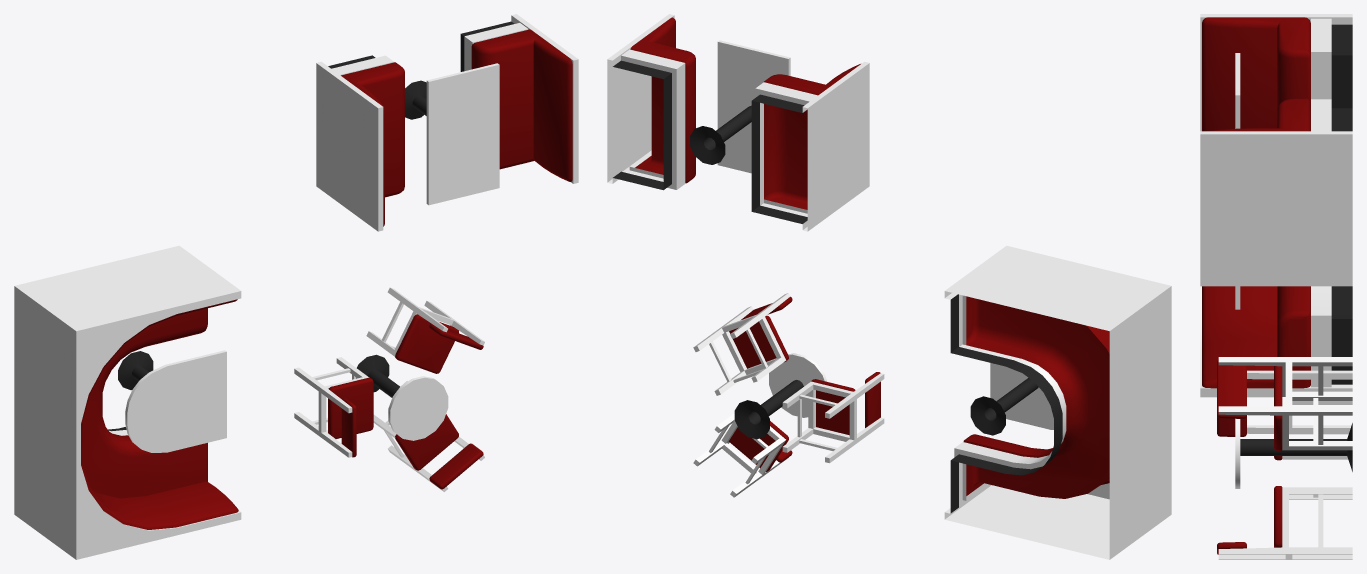
3 views of the same model, side by side, from view 1: azimuth 30°, elevation 25°; view 2: azimuth 150°, elevation 25°; view 3: azimuth 270°, elevation 25° (orthographic). The views are drawn at different scales.
Parts seen in each view (by area): view 1: ID403, ID360, ID346, ID531, ID490, ID517, ID469, ID395, ID454, ID352, ID389, ID511 (+14 smaller); view 2: ID403, ID360, ID389, ID346, ID517, ID531, ID454, ID475, ID496, ID448, ID490, ID511 (+15 smaller); view 3: ID496, ID475, ID346, ID511, ID360, ID517, ID72, ID448, ID26, ID306, ID525, ID368 (+17 smaller).
Boxes of the visible parts, box(x1,y1,x2,y2) form: ID403: box(14, 245, 241, 445); ID360: box(14, 400, 241, 559); ID346: box(81, 405, 238, 529); ID531: box(426, 63, 499, 205); ID490: box(471, 29, 572, 121); ID517: box(316, 55, 393, 169); ID469: box(499, 101, 572, 181); ID395: box(125, 350, 226, 419); ID454: box(316, 125, 383, 231); ID352: box(125, 395, 226, 452); ID389: box(81, 299, 237, 443); ID511: box(341, 62, 404, 167); ID403: box(944, 245, 1171, 445); ID360: box(944, 400, 1171, 559); ID389: box(966, 296, 1109, 415); ID346: box(963, 410, 1109, 498); ID517: box(755, 61, 869, 169); ID531: box(717, 40, 790, 173); ID454: box(760, 125, 869, 231); ID475: box(607, 89, 685, 189); ID496: box(607, 14, 685, 129); ID448: box(764, 134, 807, 209); ID490: box(630, 17, 695, 123); ID511: box(764, 64, 860, 139); ID496: box(1200, 99, 1352, 210); ID475: box(1200, 210, 1352, 286); ID346: box(1202, 286, 1310, 388); ID511: box(1202, 17, 1310, 108); ID360: box(1200, 286, 1352, 397); ID517: box(1200, 14, 1352, 99); ID72: box(1218, 384, 1352, 450); ID448: box(1202, 94, 1277, 131); ID26: box(1218, 357, 1352, 406); ID306: box(1218, 487, 1352, 556); ID525: box(1331, 24, 1352, 108); ID368: box(1331, 286, 1352, 384).
Bounding box in the file's own units: 168 × 130 × 35.83.
